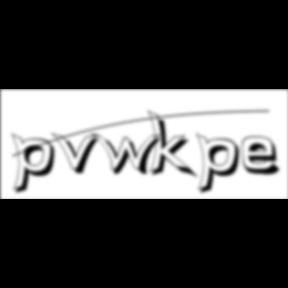e: (242, 135, 288, 178)
k: (147, 108, 200, 181)
p: (12, 132, 62, 198), (197, 132, 247, 198)
v: (52, 131, 106, 177)
w: (91, 132, 169, 178)
